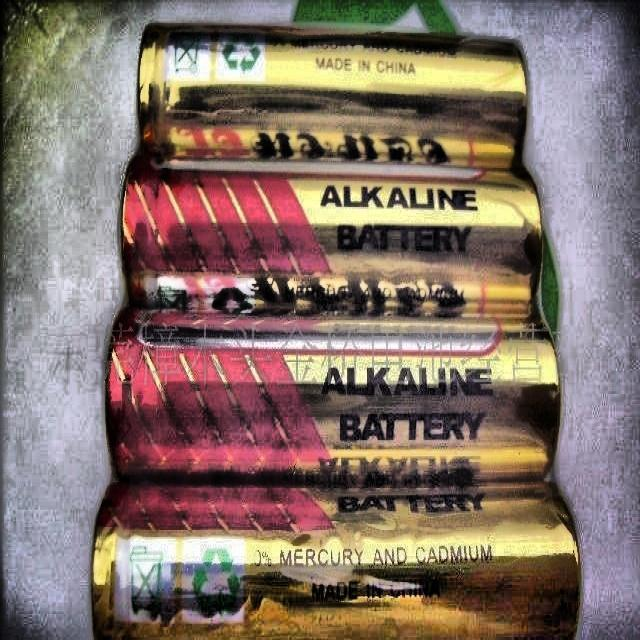battery: (106, 308, 560, 488), (91, 480, 579, 638), (122, 156, 541, 318), (140, 25, 528, 167)
